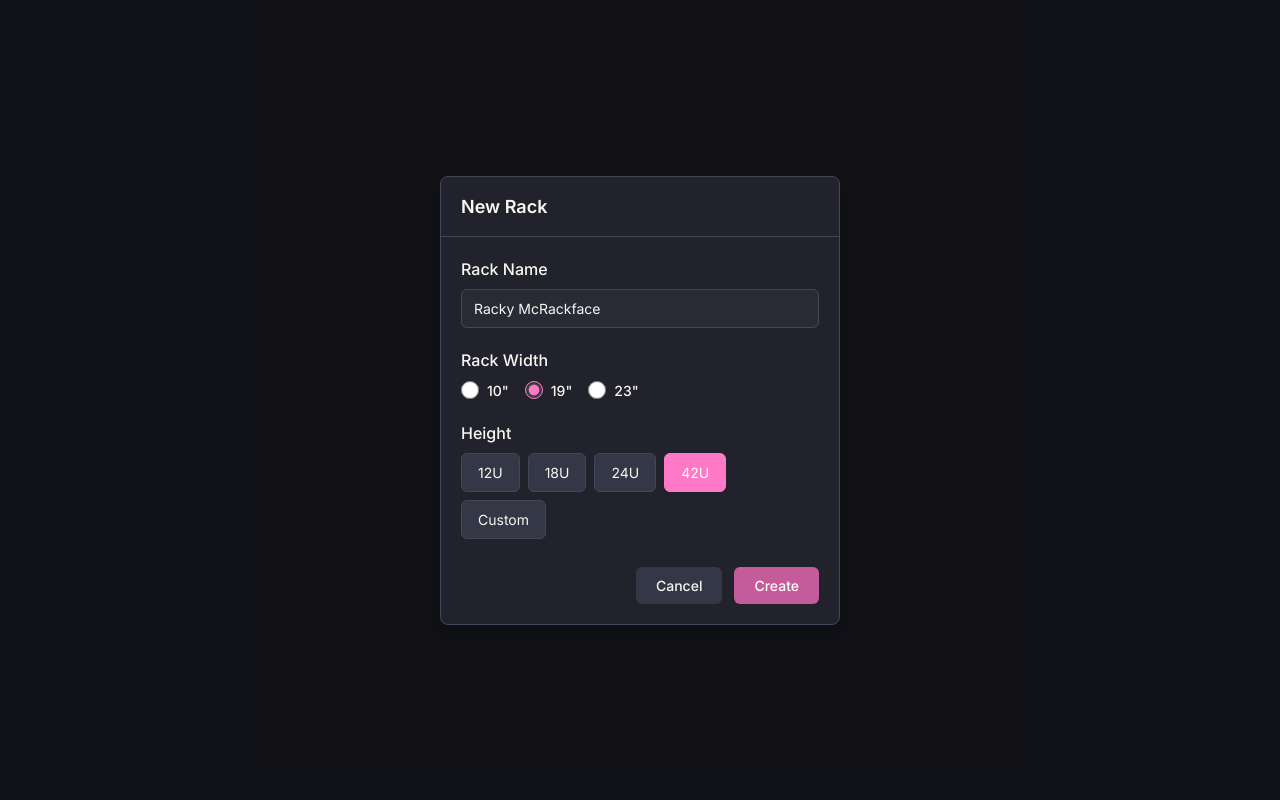
Form Input Styles › NewRackForm Input States › input shows error state when validation fails
# Clear the name field
Clear the field labelled "Rack Name" at (640, 308), box [461, 288, 819, 328]
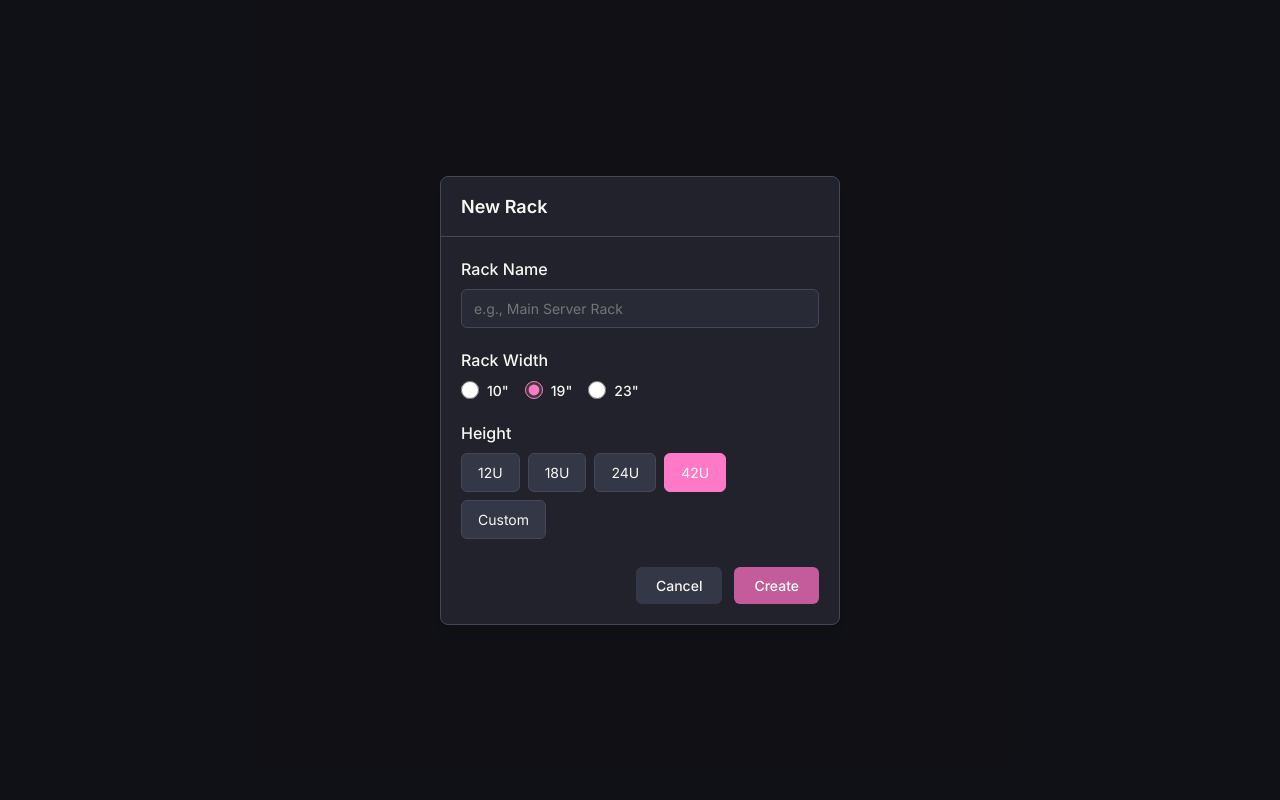
# Click Create to trigger validation
Click the button "Create" at (777, 585), box [734, 566, 819, 604]
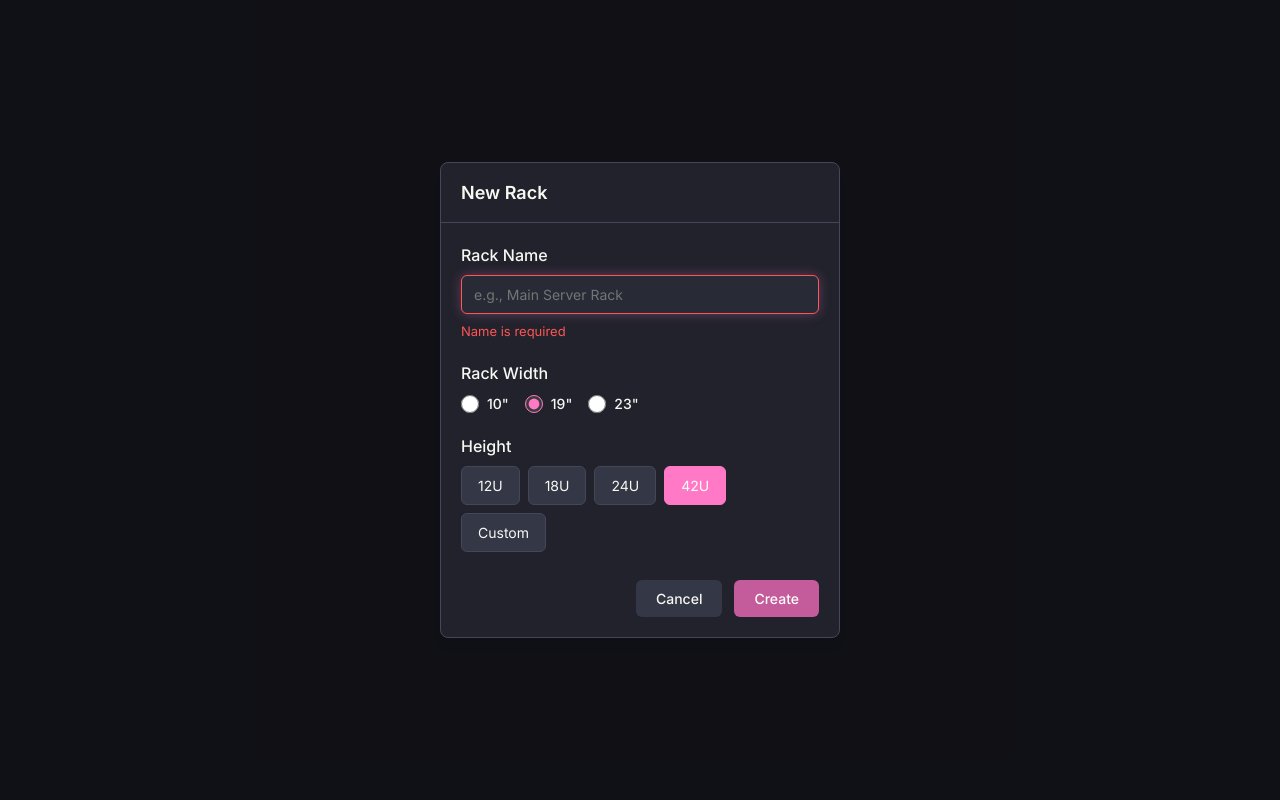
Expected: the text "Name is required" is shown, [461, 323, 566, 339]
